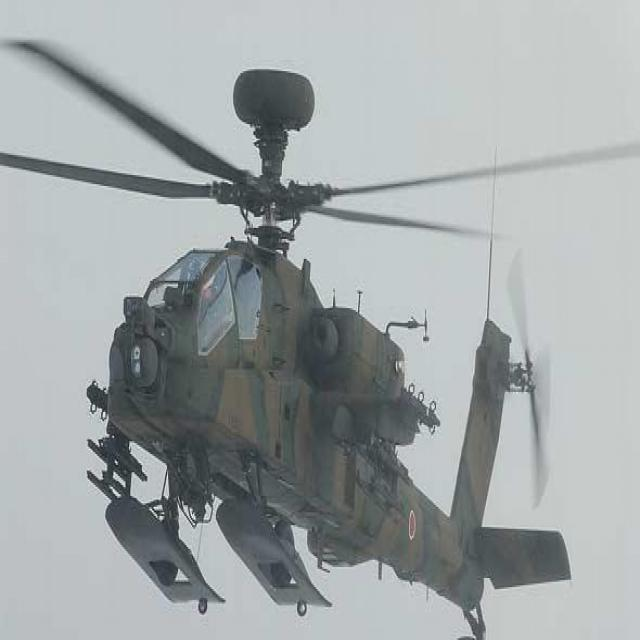MIL_HELO: (0, 36, 611, 640)
